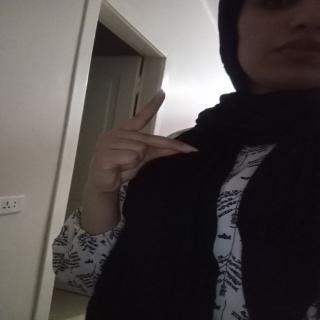TAA: (77, 82, 204, 206)
